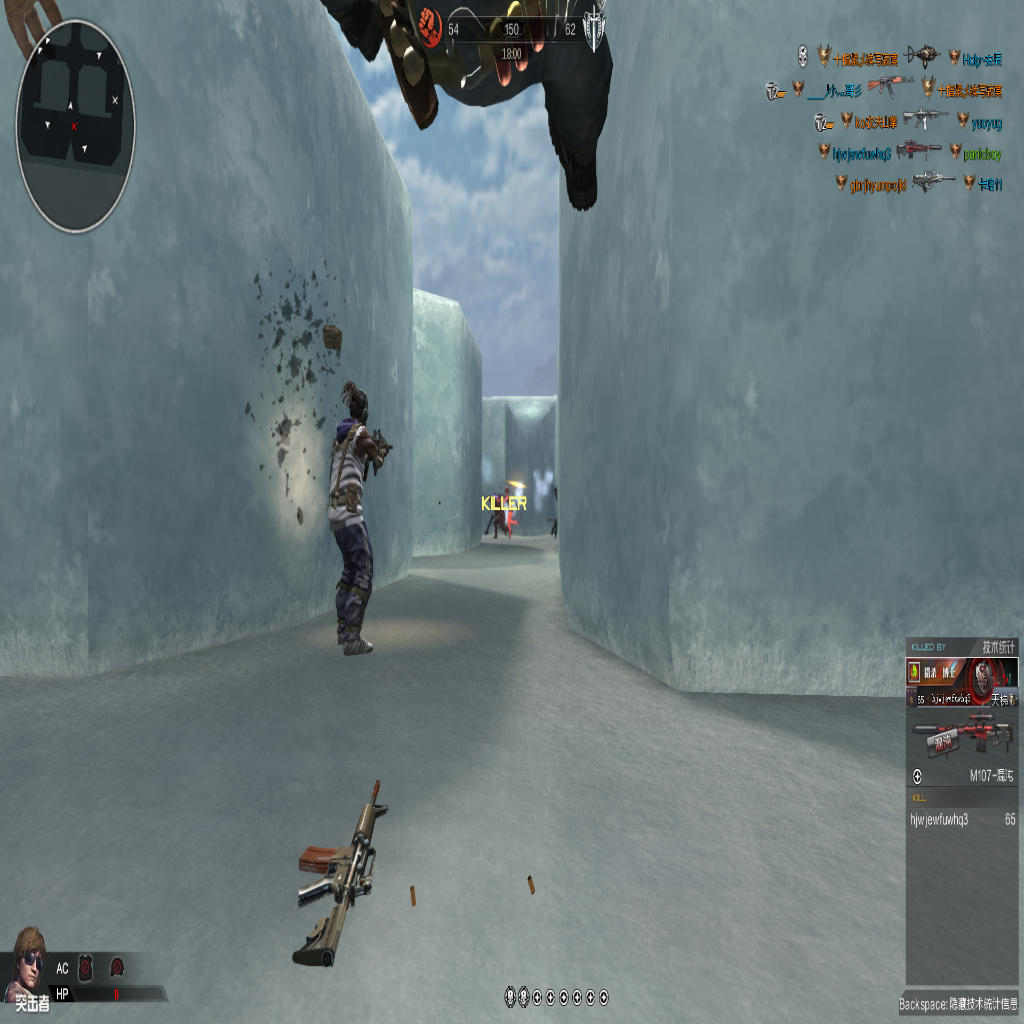tt: (325, 380, 390, 655)
